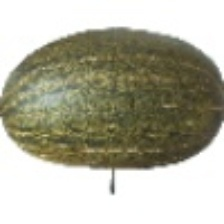honeydew: (9, 20, 171, 162)
